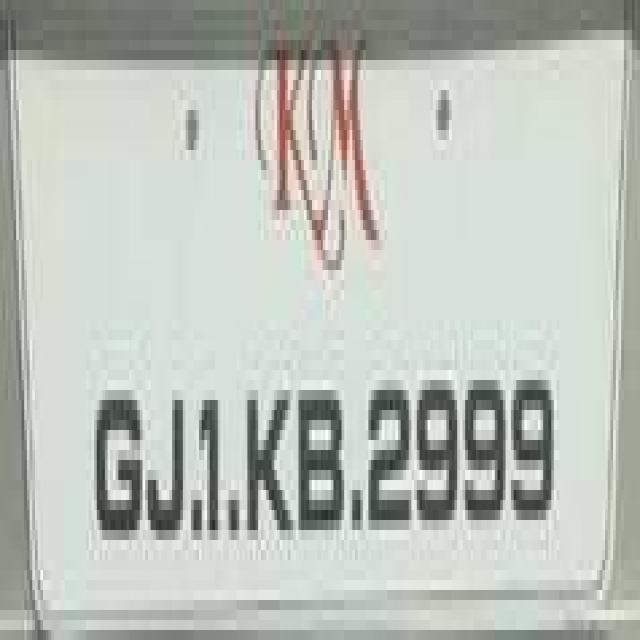license_plate: (24, 80, 640, 620)
